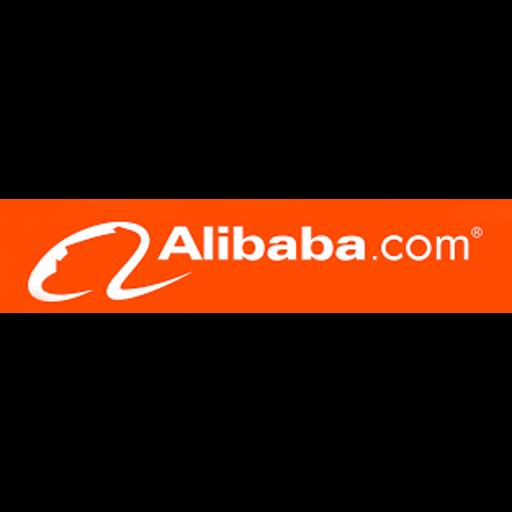Alibaba: (0, 199, 512, 313)
